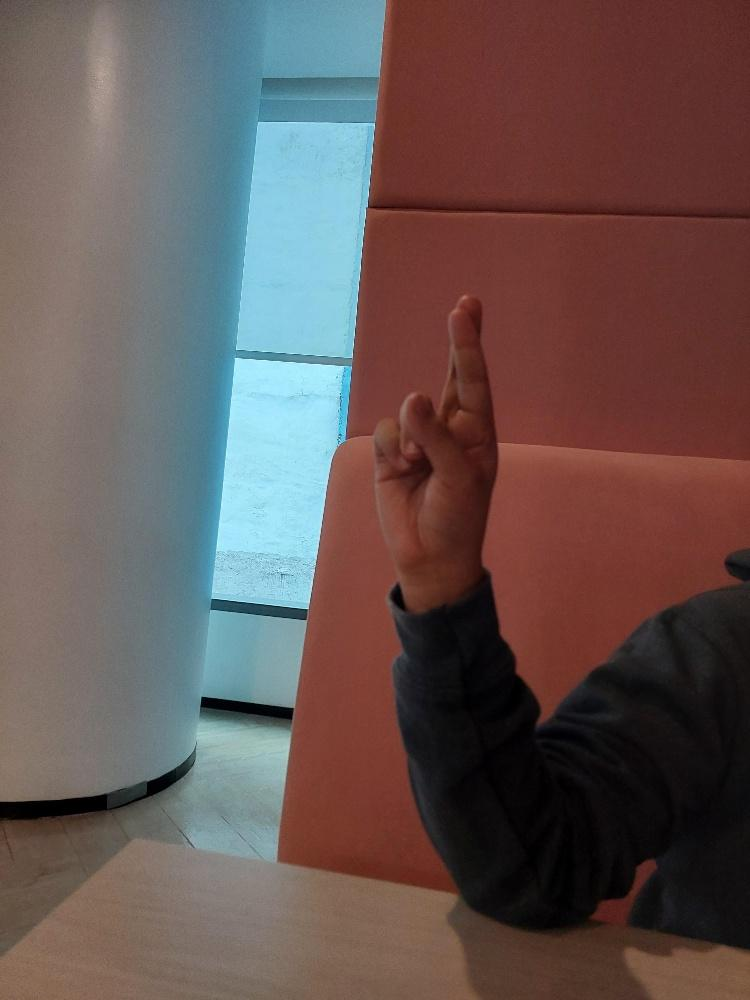r: (367, 282, 506, 599)
